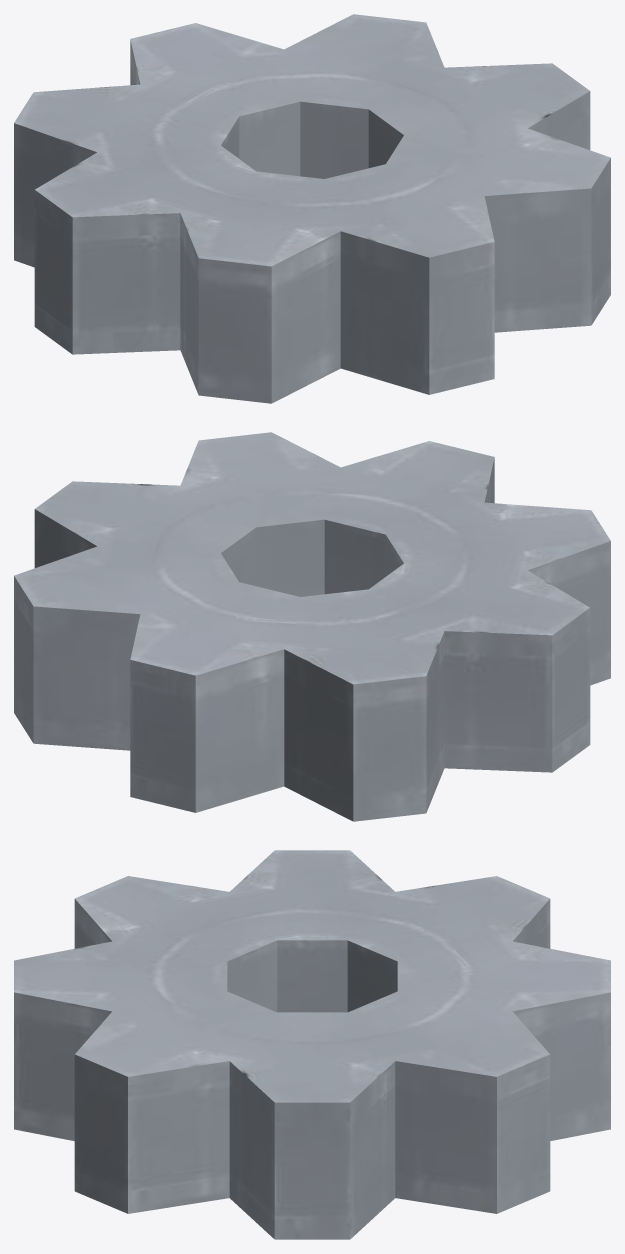
The model's file is res_gear_low.glb.
3 renders of one model, top to bottom at view 1: azimuth 30°, elevation 25°; view 2: azimuth 150°, elevation 25°; view 3: azimuth 270°, elevation 25°, orthographic.
Parts seen in each view (by area): view 1: res_gear_low; view 2: res_gear_low; view 3: res_gear_low.
Boxes of the visible parts, x1=… form: res_gear_low: x1=14, y1=14, x2=610, y2=403; res_gear_low: x1=14, y1=432, x2=610, y2=821; res_gear_low: x1=14, y1=850, x2=610, y2=1239.
Size of the model in its own units: 0.3 by 0.076 by 0.3.
1 material, 1 textured.
